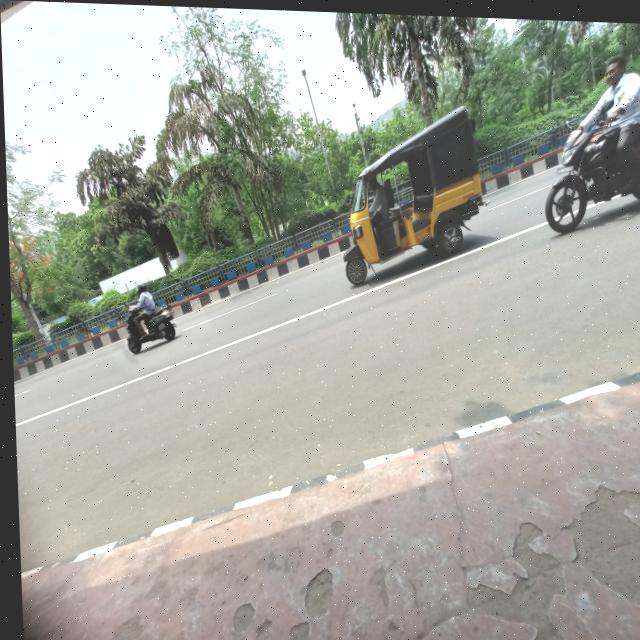bike: (539, 119, 640, 239), (115, 304, 183, 356)
